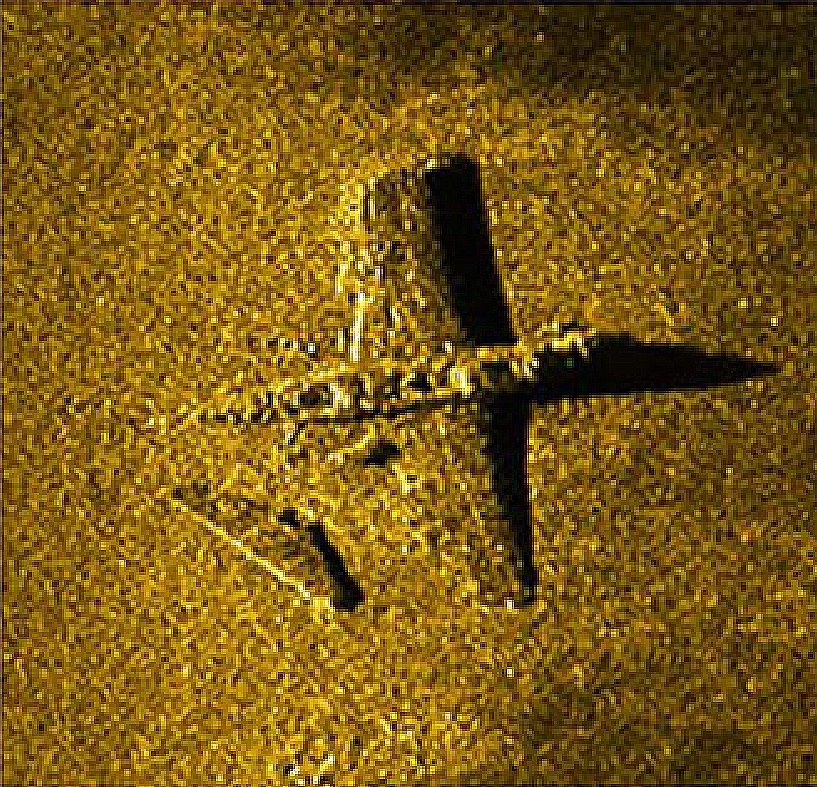aircraft: (149, 159, 608, 615)
